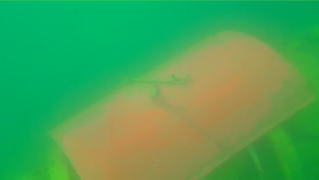leak: (47, 29, 317, 180)
pipe: (203, 26, 318, 180), (16, 147, 79, 180)
